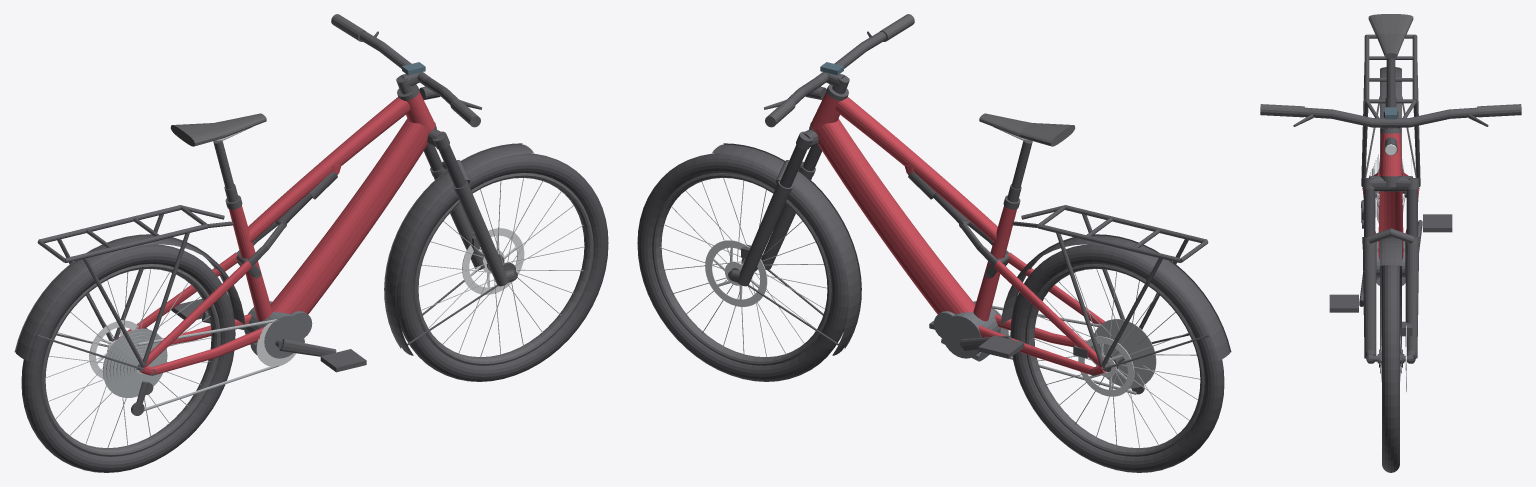
Rendered from ebike-mtb-specialized-turbo-vado-3-x-6-0.glb.
3 renders of one model, left to right at view 1: azimuth 30°, elevation 25°; view 2: azimuth 150°, elevation 25°; view 3: azimuth 270°, elevation 25°, orthographic. The views are drawn at different scales.
Parts seen in each view (by area): view 1: front_wheel_tire, rear_wheel_tire, accessories_fenders, frame_downtube, accessories_rear_rack, front_wheel_rim, rear_wheel_rim, frame_toptube, fork_lowers, drivetrain_cassette, rear_seatstays, front_wheel_spokes (+14 smaller); view 2: front_wheel_tire, rear_wheel_tire, accessories_fenders, frame_downtube, accessories_rear_rack, front_wheel_rim, rear_wheel_rim, frame_toptube, fork_lowers, drivetrain_cassette, rear_seatstays, ebike_motor_housing (+13 smaller); view 3: front_wheel_tire, fork_lowers, accessories_rear_rack, accessories_fenders, cockpit_riser_bar, drivetrain_crankset, saddle_shell, fork_stanchions, frame_downtube, cockpit_grips, fork_crown, frame_headtube (+2 smaller).
Part boxes in pixels (x1,y1,x2,y2): front_wheel_tire: (397,153,608,381); rear_wheel_tire: (21,244,235,472); accessories_fenders: (14,143,533,370); frame_downtube: (270,118,431,314); accessories_rear_rack: (37,205,233,367); front_wheel_rim: (414,173,593,365); rear_wheel_rim: (41,264,220,456); frame_toptube: (248,97,410,242); fork_lowers: (430,160,517,286); drivetrain_cassette: (102,328,167,397); rear_seatstays: (116,252,252,375); front_wheel_spokes: (419,178,584,358); front_wheel_tire: (637,153,848,381); rear_wheel_tire: (1010,244,1224,472); accessories_fenders: (712,143,1231,370); frame_downtube: (814,118,975,314); accessories_rear_rack: (1012,205,1208,367); front_wheel_rim: (652,173,831,365); rear_wheel_rim: (1025,264,1204,456); frame_toptube: (835,97,997,242); fork_lowers: (728,160,815,286); drivetrain_cassette: (1092,319,1156,388); rear_seatstays: (993,252,1106,375); ebike_motor_housing: (933,301,1000,361); front_wheel_tire: (1382,265,1399,472); fork_lowers: (1362,228,1419,363); accessories_rear_rack: (1361,34,1420,186); accessories_fenders: (1362,67,1419,373); cockpit_riser_bar: (1295,107,1485,127); drivetrain_crankset: (1329,214,1452,312); saddle_shell: (1368,14,1413,58); fork_stanchions: (1364,189,1417,237); frame_downtube: (1378,168,1403,260); cockpit_grips: (1260,104,1521,117); fork_crown: (1362,175,1419,191); frame_headtube: (1380,133,1401,176).
Bounding box in the file's own units: 1.9 × 1.04 × 0.7833.
